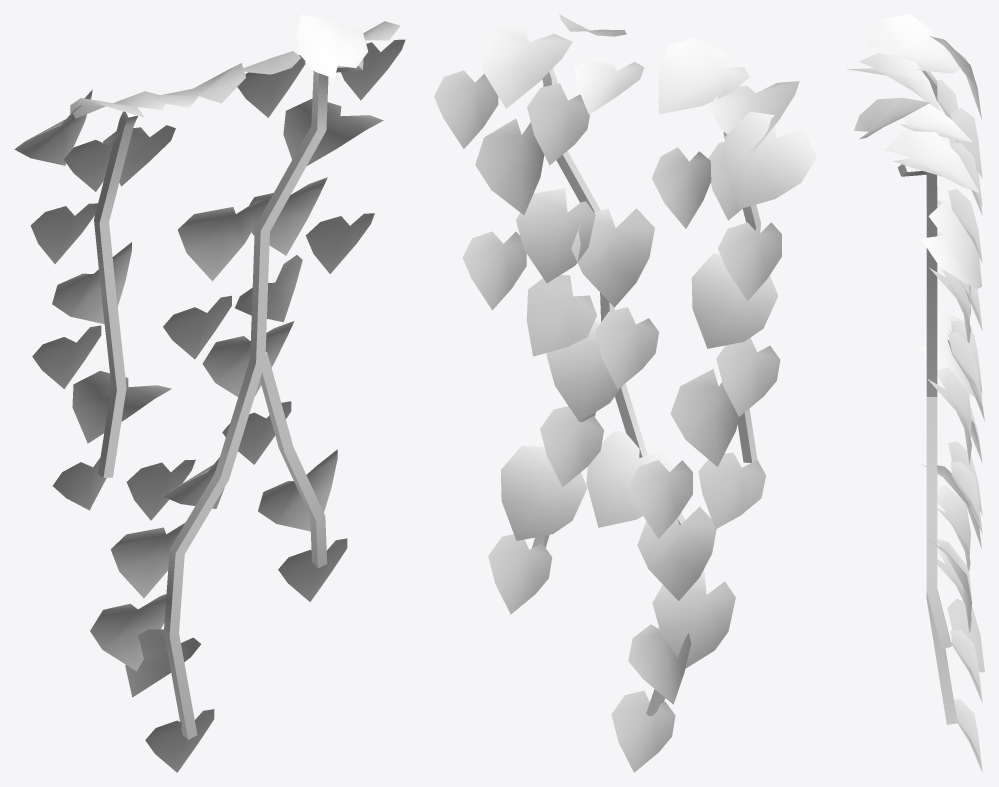
The model's file is SM_Foliage_1x2.fbx.
3 renders of one model, left to right at view 1: azimuth 30°, elevation 25°; view 2: azimuth 150°, elevation 25°; view 3: azimuth 270°, elevation 25°, orthographic. The views are drawn at different scales.
Parts seen in each view (by area): view 1: Liane 1x2; view 2: Liane 1x2; view 3: Liane 1x2.
Part boxes in pixels (<box>): Liane 1x2: <box>14,14,405,772</box>; Liane 1x2: <box>434,14,816,772</box>; Liane 1x2: <box>847,14,984,772</box>.
Bounding box in the file's own units: 124 × 226 × 40.16.
